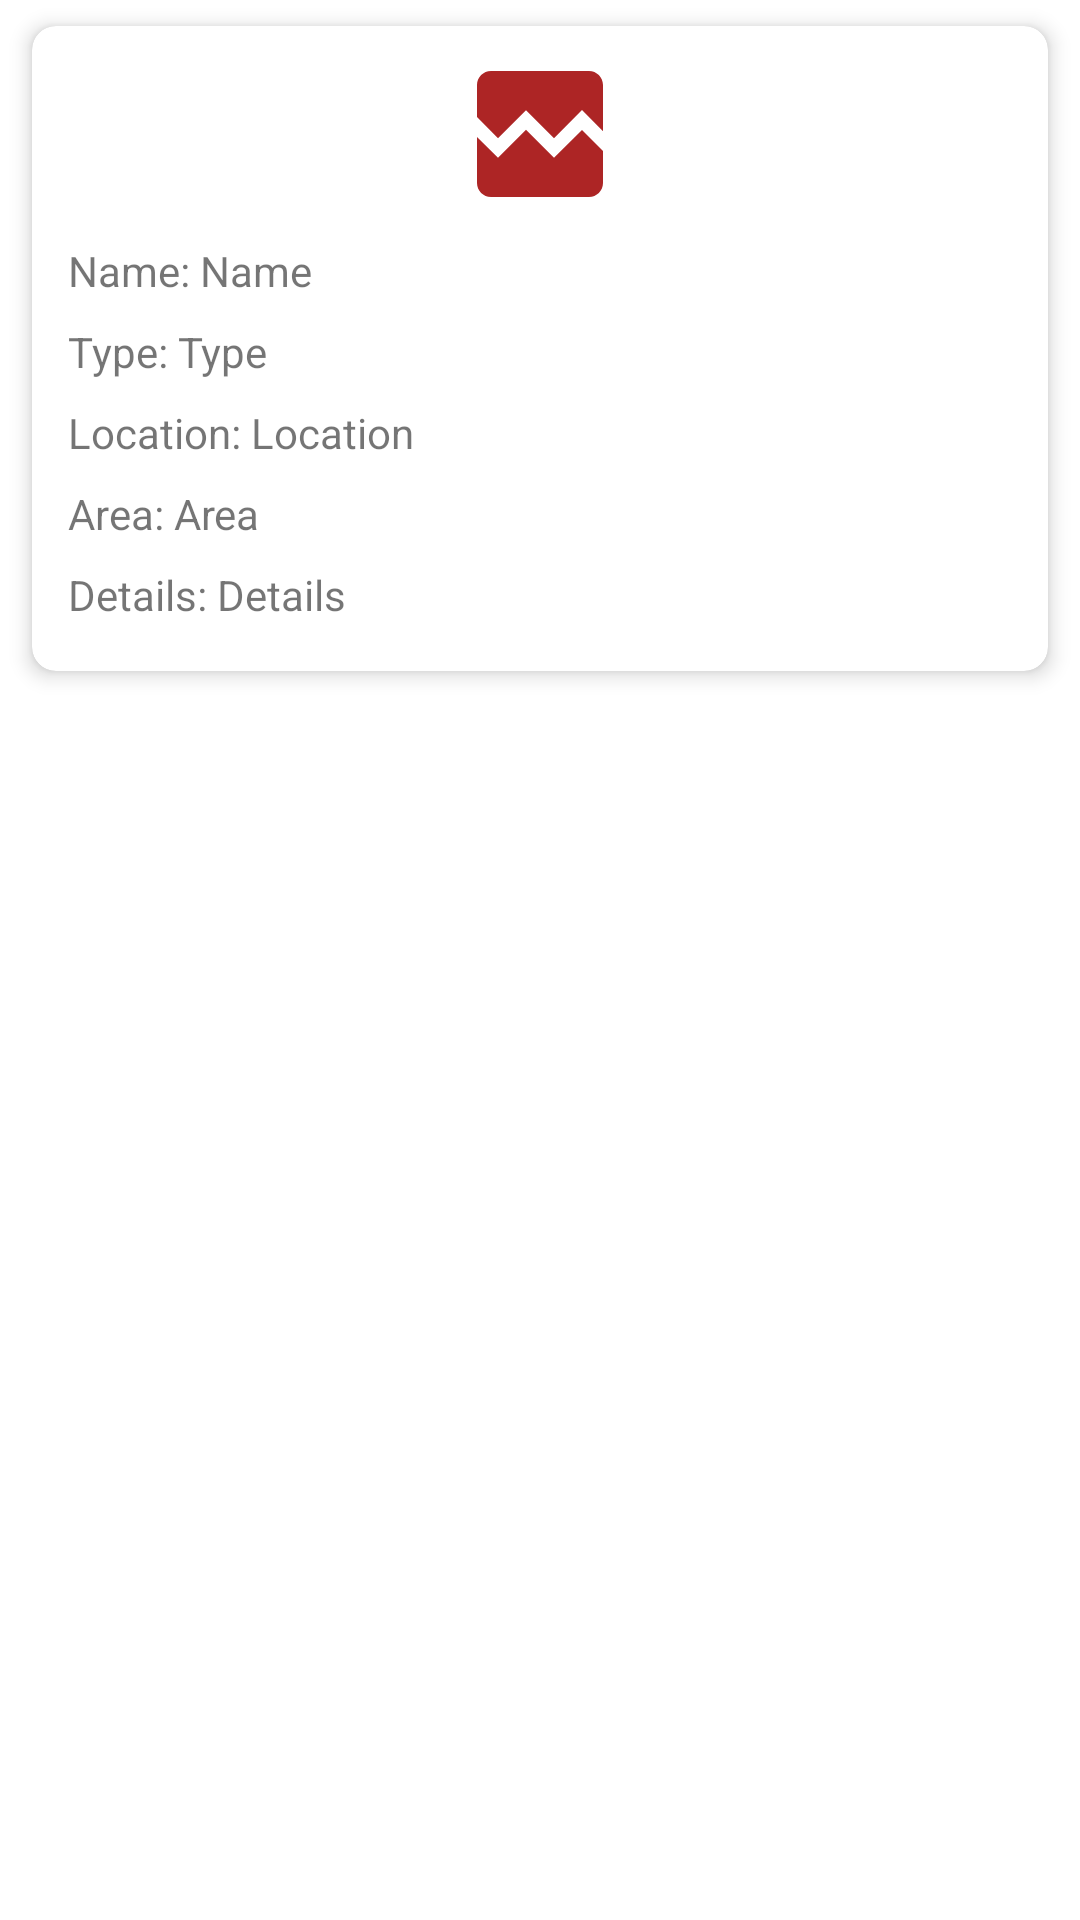

Where to tap for icons on this 1080 x 1920 app screen, as (x,y):
broken: (540,134)
